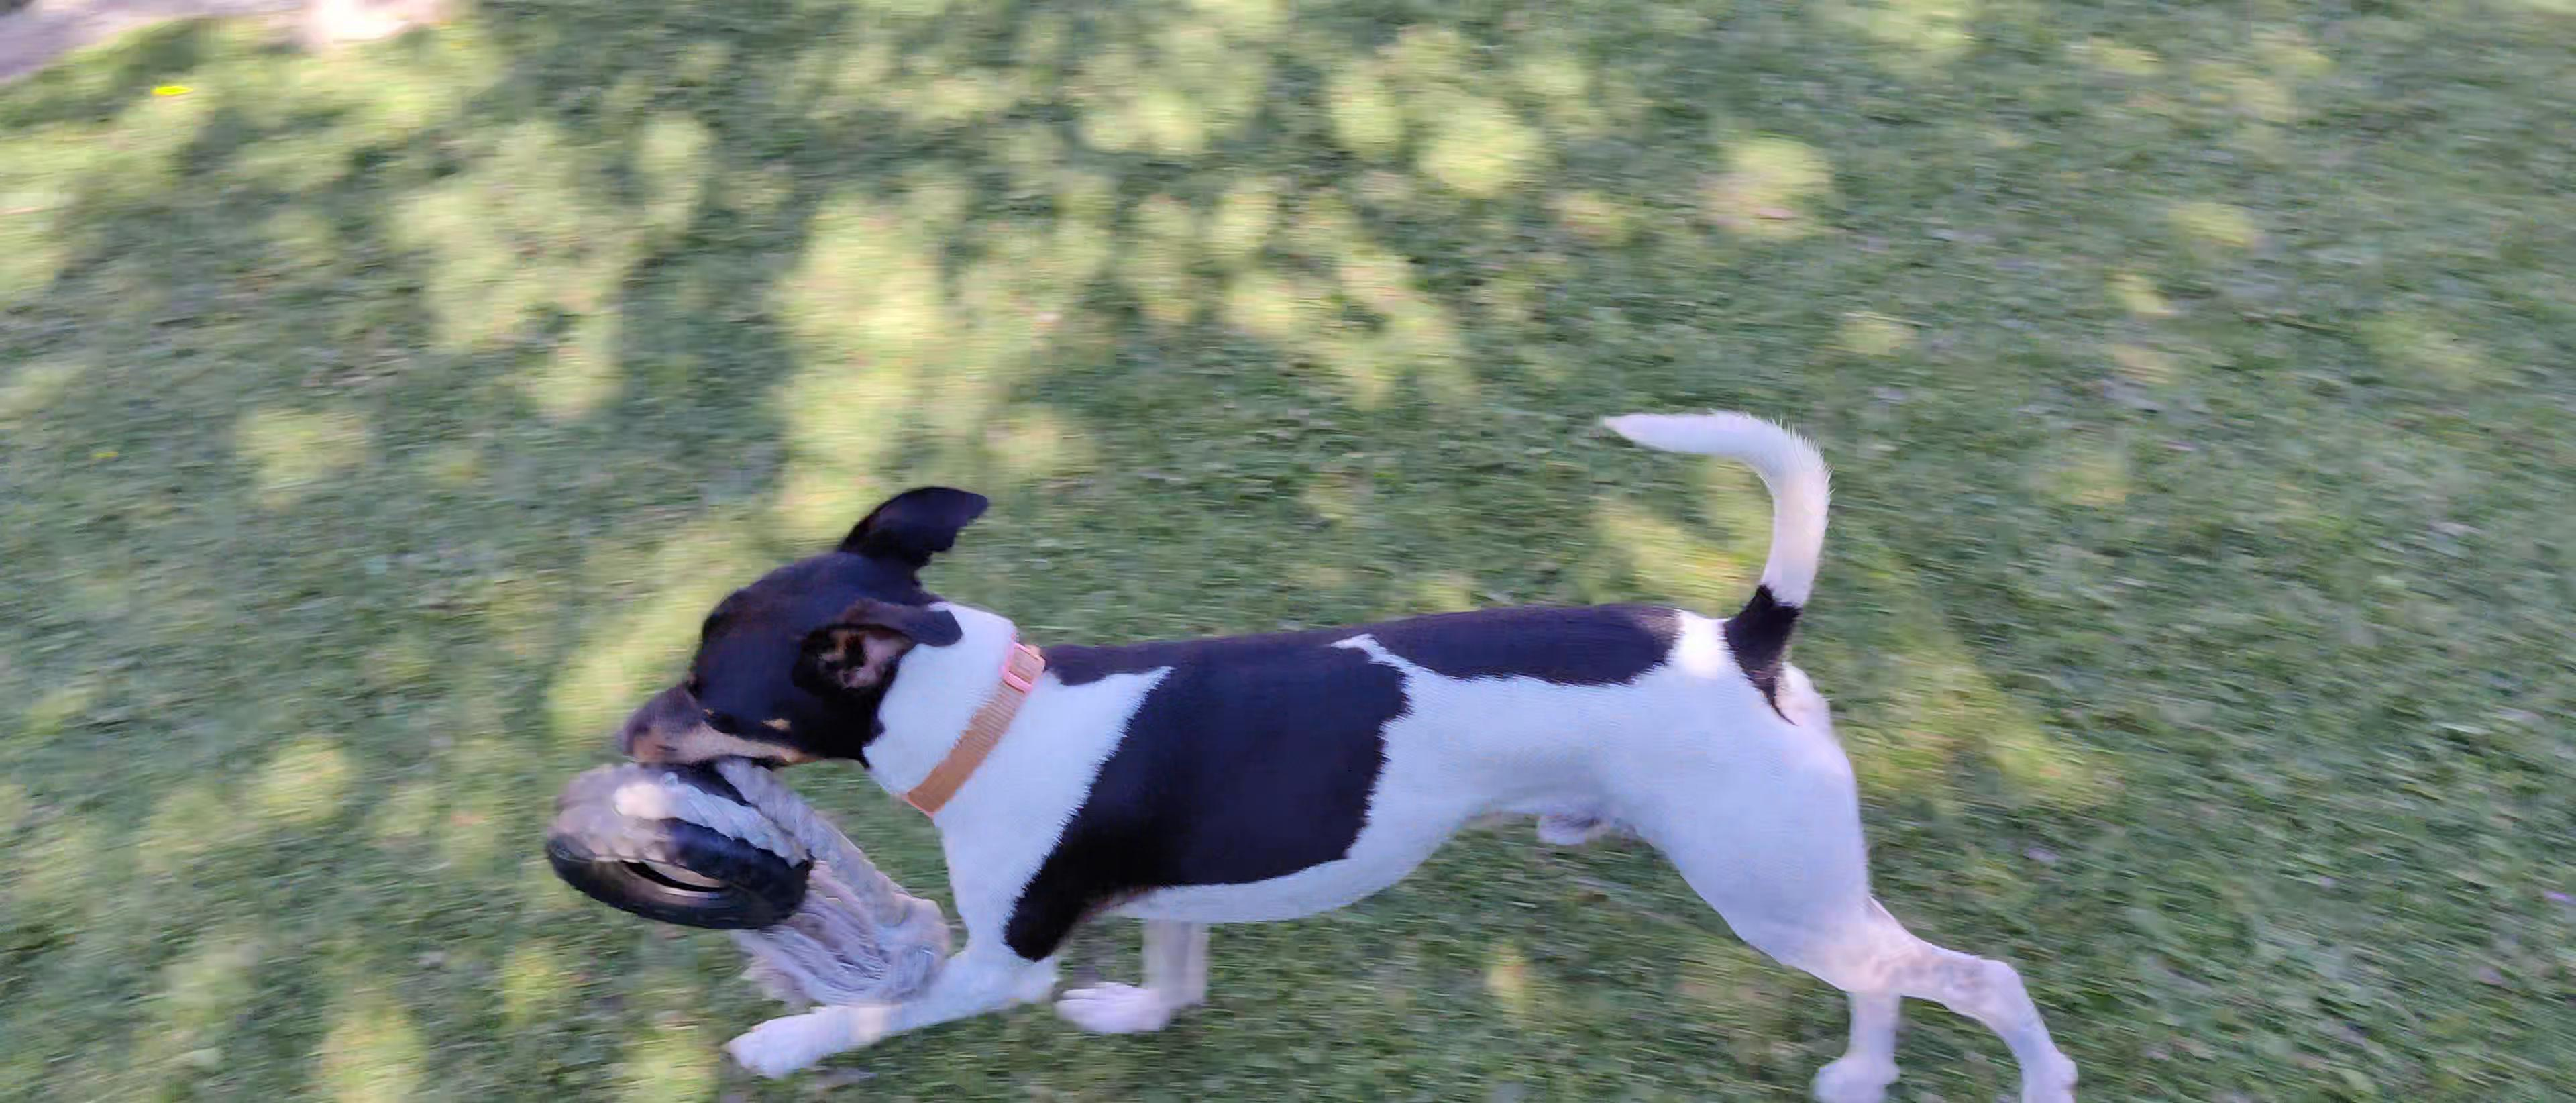Dog: (595, 332, 2090, 1100)
